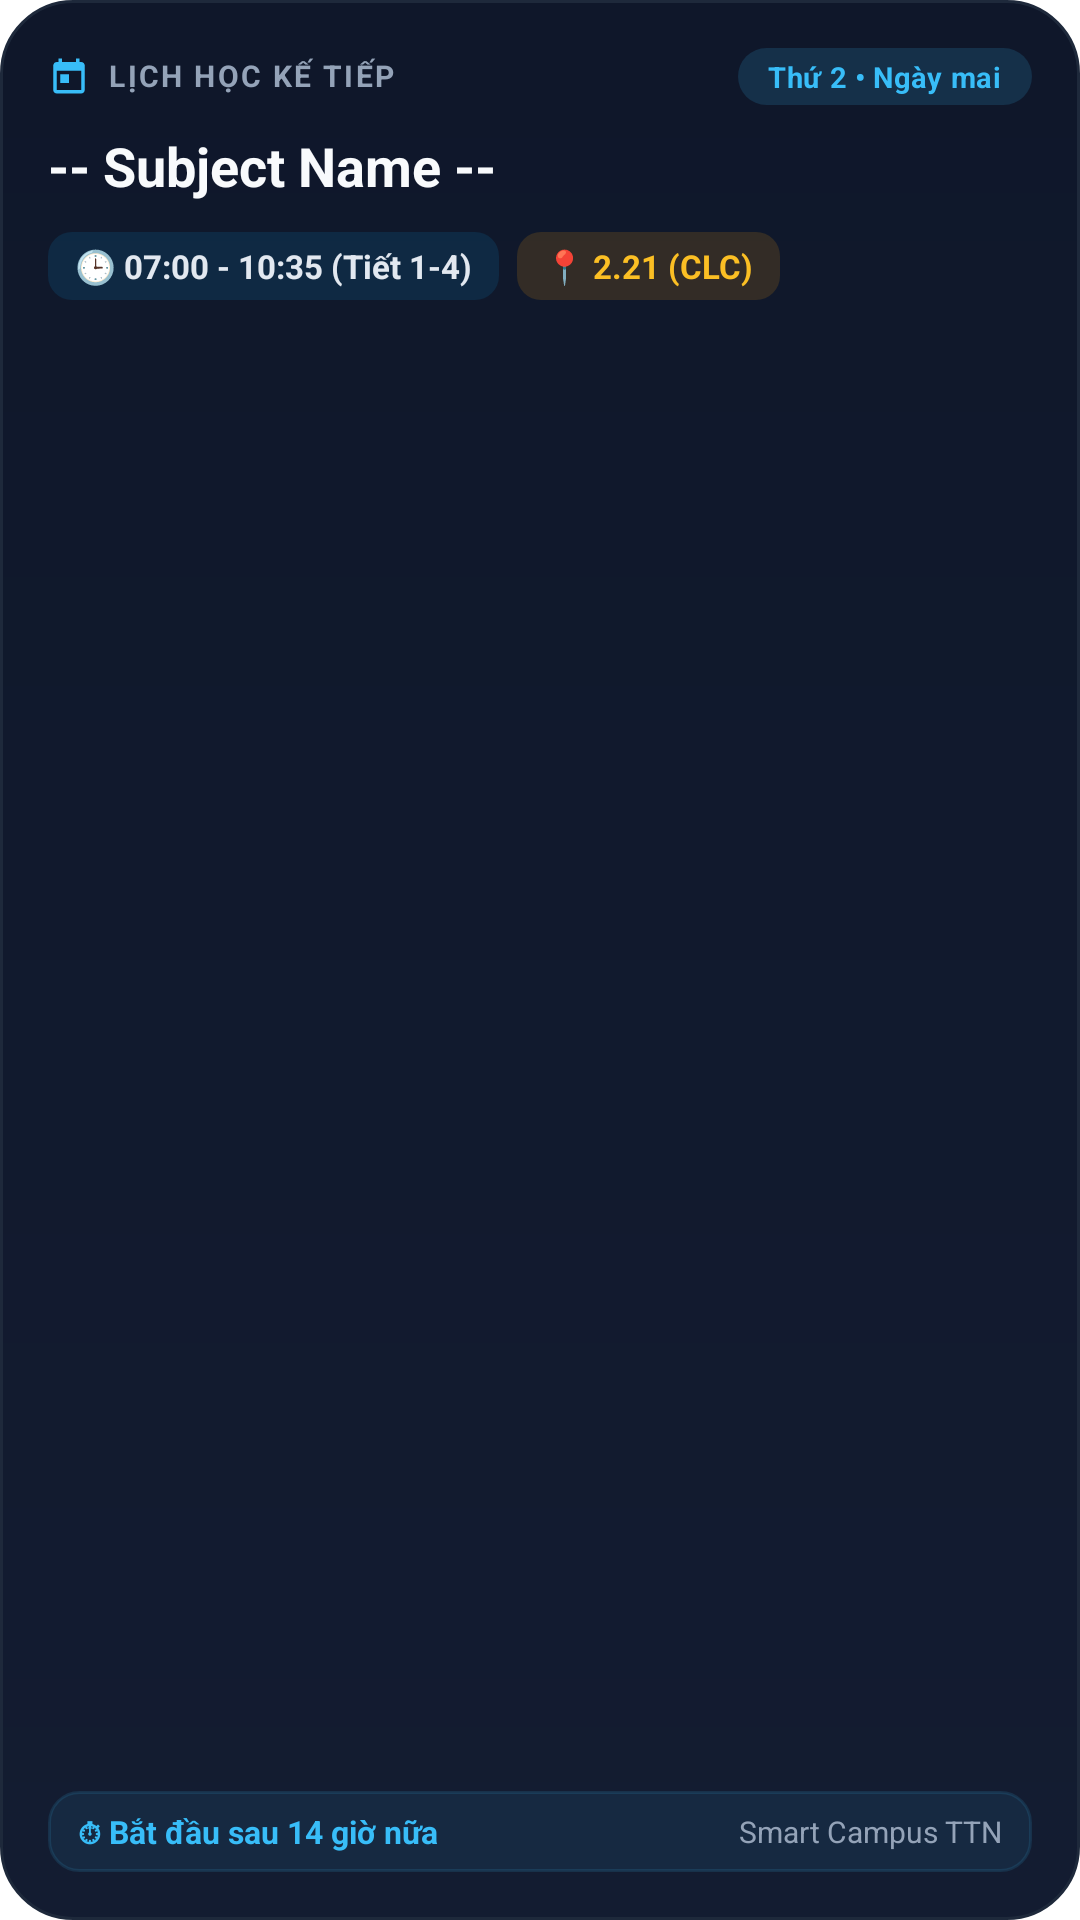

Screen size 1080*1920. Icon name, then its box in pixels as (x1, y1, x2, y2):
Calendar: (53, 58, 85, 94)
